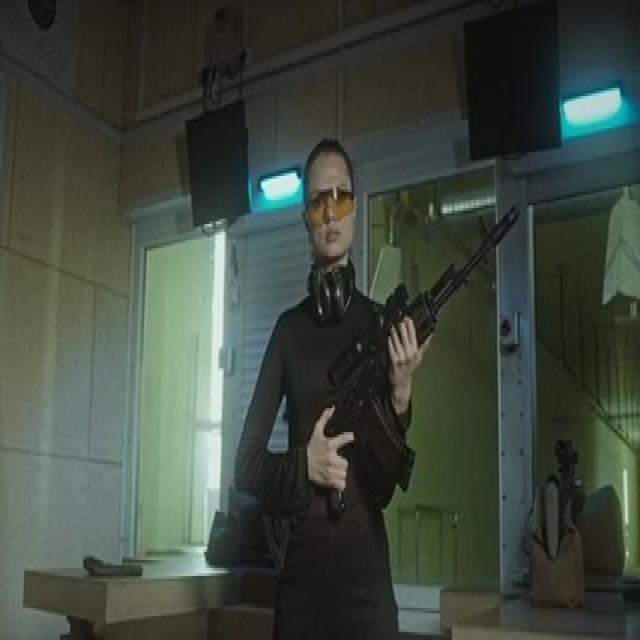Gun_Holder: (279, 201, 541, 538)
Person: (232, 134, 427, 638)
